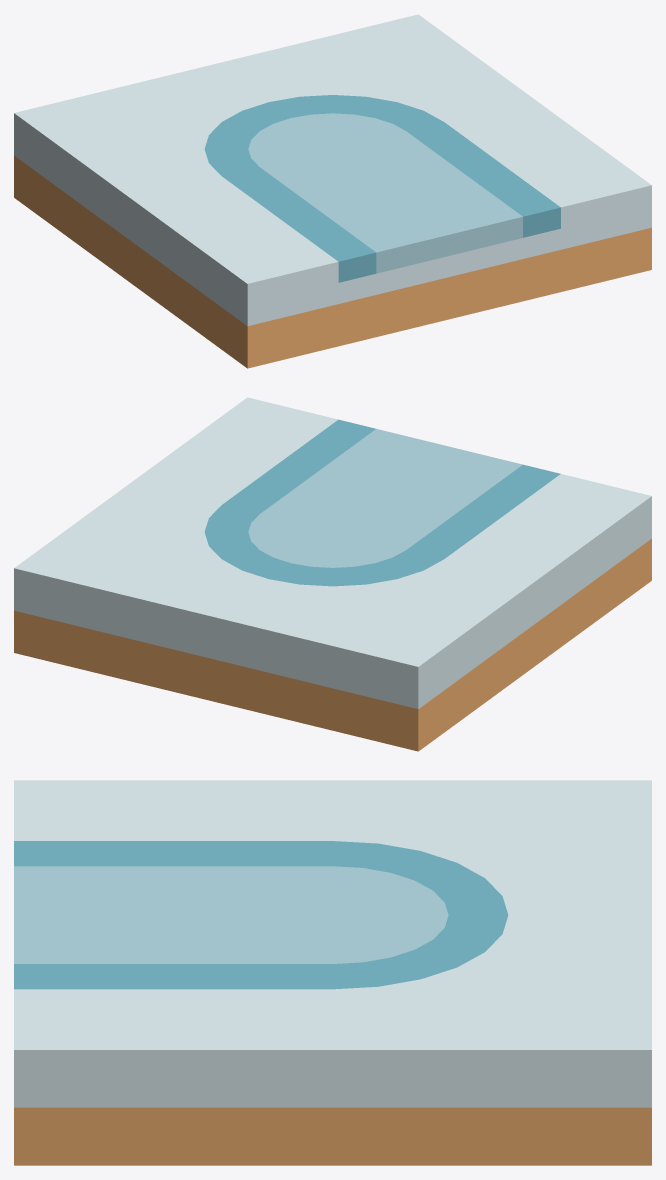
File: snow_tile_endRound(+).fbx
3 views of the same model, one above another, from view 1: azimuth 30°, elevation 25°; view 2: azimuth 150°, elevation 25°; view 3: azimuth 270°, elevation 25° (orthographic). The views are drawn at different scales.
Parts seen in each view (by area): view 1: Mesh_2; view 2: Mesh_2; view 3: Mesh_2.
Part boxes in pixels (<box>): Mesh_2: <box>14,14,651,368</box>; Mesh_2: <box>14,397,651,751</box>; Mesh_2: <box>14,780,651,1165</box>.
Size of the model in its own units: 100 by 20 by 100.
